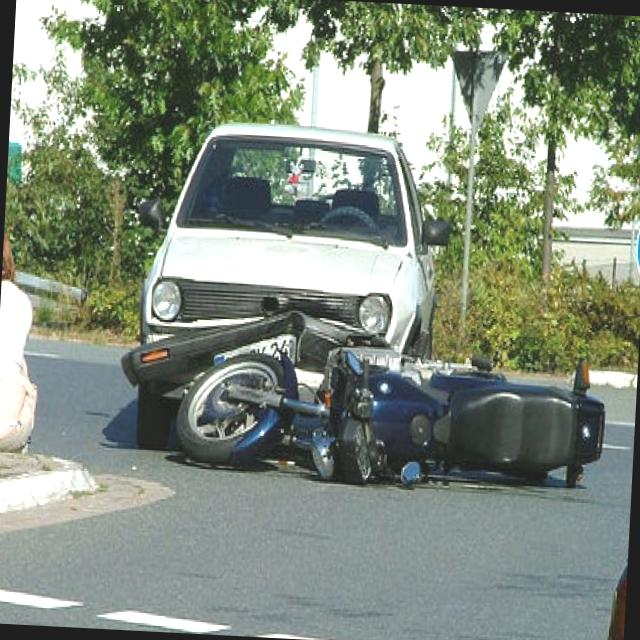Vehicle: (171, 336, 608, 498), (139, 130, 426, 360), (603, 406, 636, 640)
